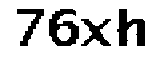6: (47, 7, 79, 51)
7: (12, 6, 45, 50)
h: (116, 4, 149, 50)
x: (80, 15, 113, 49)
